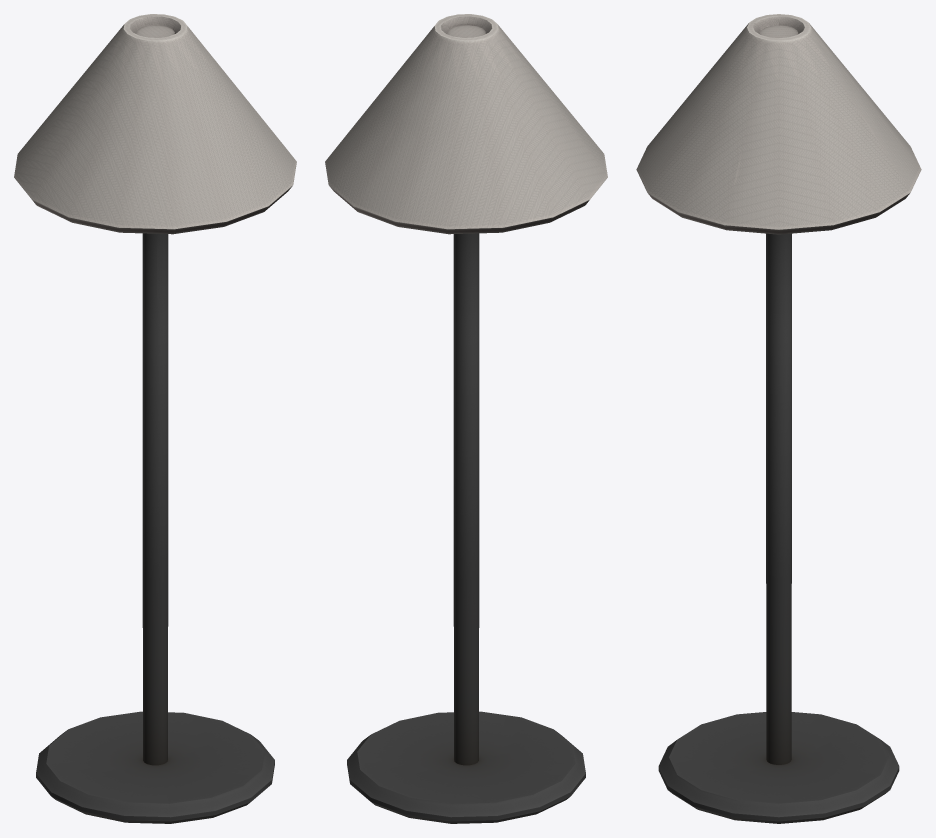
File: AslanHouse_bigLamp.fbx
3 renders of one model, left to right at view 1: azimuth 30°, elevation 25°; view 2: azimuth 150°, elevation 25°; view 3: azimuth 270°, elevation 25°, orthographic.
Visible parts, largest first — view 1: LampShade2; view 2: LampShade2; view 3: LampShade2.
Part boxes in pixels (<box>): LampShade2: <box>14,14,296,823</box>; LampShade2: <box>325,14,607,823</box>; LampShade2: <box>636,14,921,823</box>.
Size of the model in its own units: 75.37 by 218 by 75.37.
Materials: 1 (1 with a texture image).
